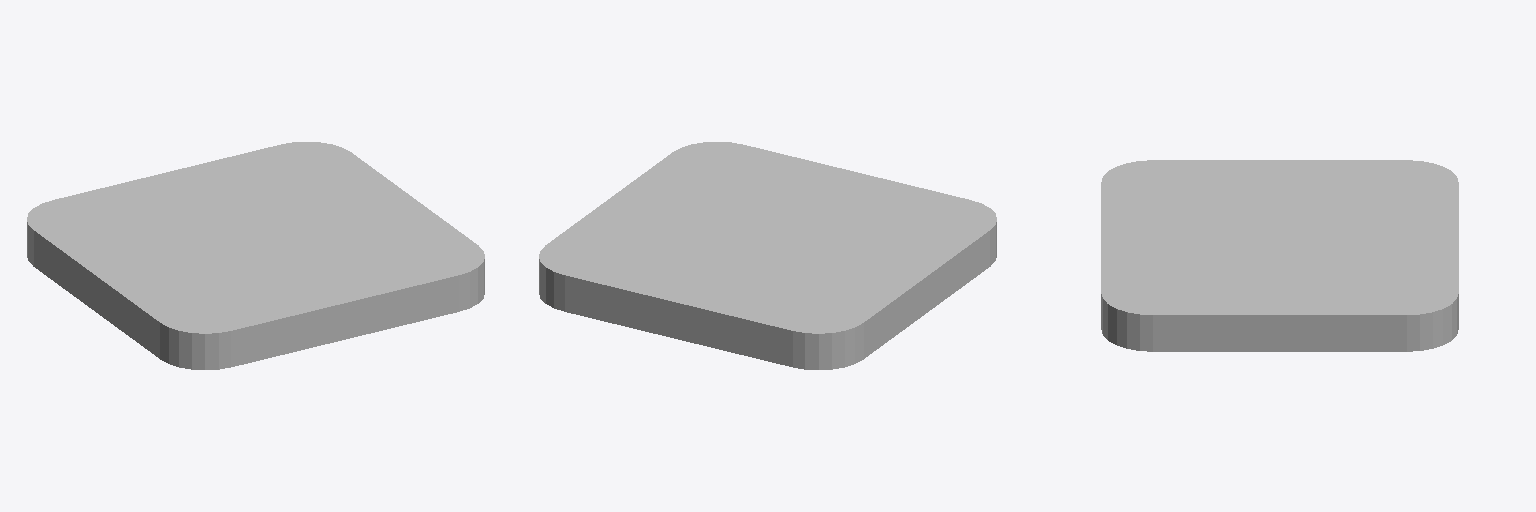
The model's file is original-52.obj.
3 views of the same model, side by side, from view 1: azimuth 30°, elevation 25°; view 2: azimuth 150°, elevation 25°; view 3: azimuth 270°, elevation 25° (orthographic).
Visible parts, largest first — view 1: mesh51/mesh51-geometry#mesh51-geometry; view 2: mesh51/mesh51-geometry#mesh51-geometry; view 3: mesh51/mesh51-geometry#mesh51-geometry.
Boxes of the visible parts, x1=… form: mesh51/mesh51-geometry#mesh51-geometry: x1=27, y1=142, x2=484, y2=369; mesh51/mesh51-geometry#mesh51-geometry: x1=539, y1=142, x2=996, y2=369; mesh51/mesh51-geometry#mesh51-geometry: x1=1101, y1=160, x2=1458, y2=351.
Bounding box in the file's own units: 0.0583 × 0.0064 × 0.0568.